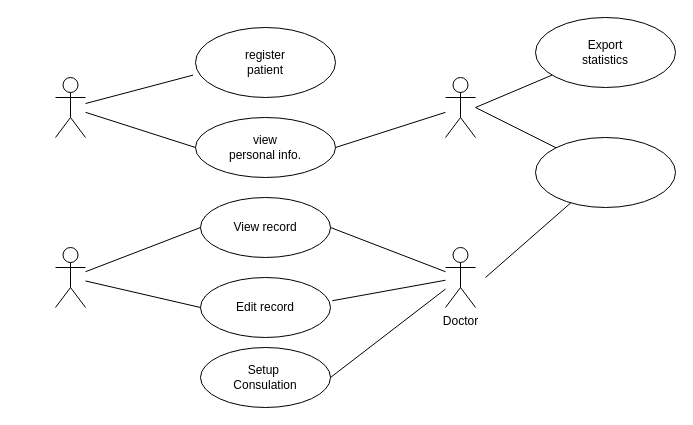
This 693x425 diagram has some shape labels left out. Here are the shapes that lost their labels. From the top down, the centre of each, then its label:
point (70, 107): Medical receprionist
point (460, 107): Manager
point (605, 172): Generate report
point (70, 277): Nurse
